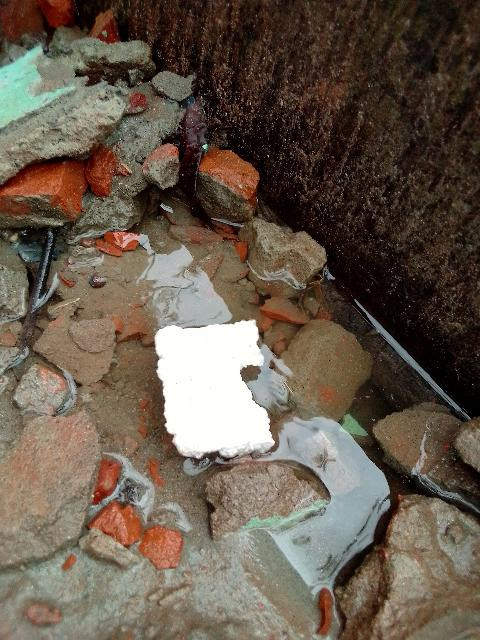cocksheet: (132, 284, 285, 506)
